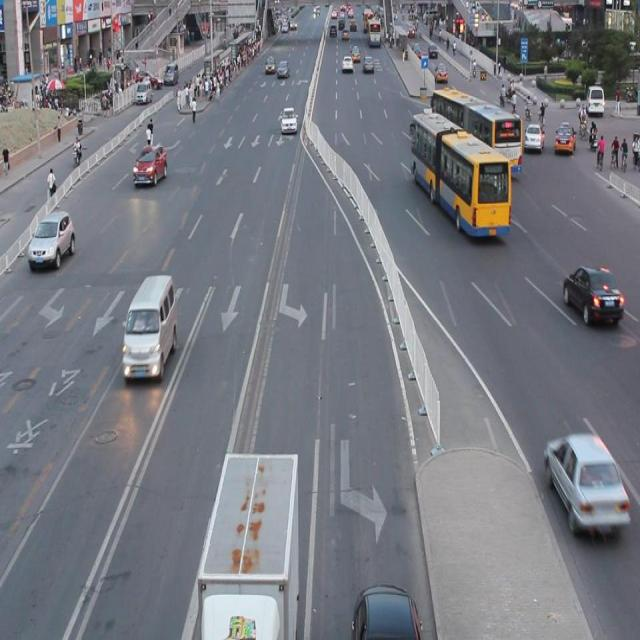bus: (196, 451, 299, 640)
car: (542, 430, 627, 531), (351, 582, 422, 640), (562, 263, 623, 325), (29, 210, 75, 268), (133, 143, 167, 185)
truck: (122, 273, 177, 376)
van: (412, 111, 509, 236)
